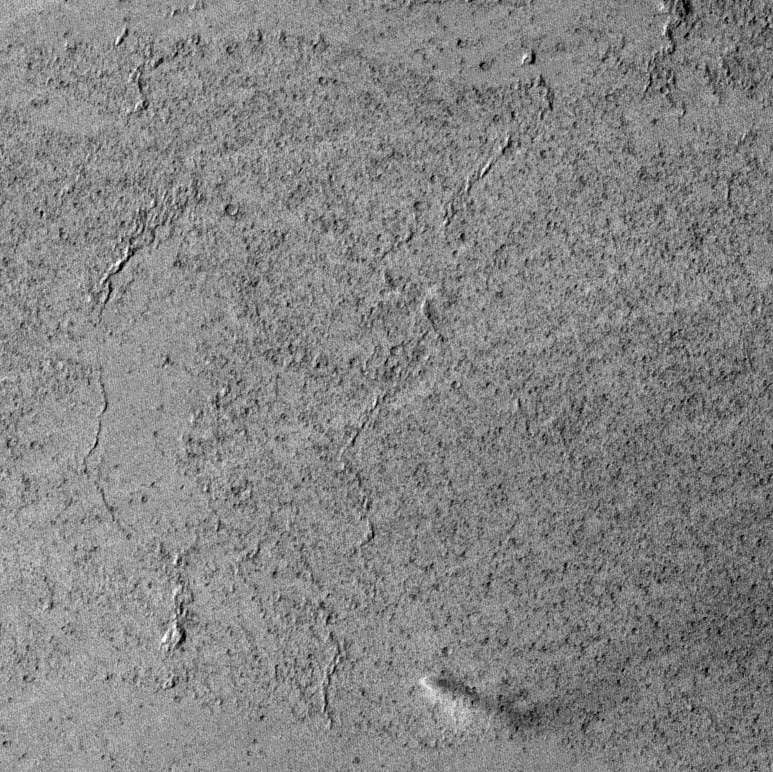dust_devil: (415, 672, 543, 742)
